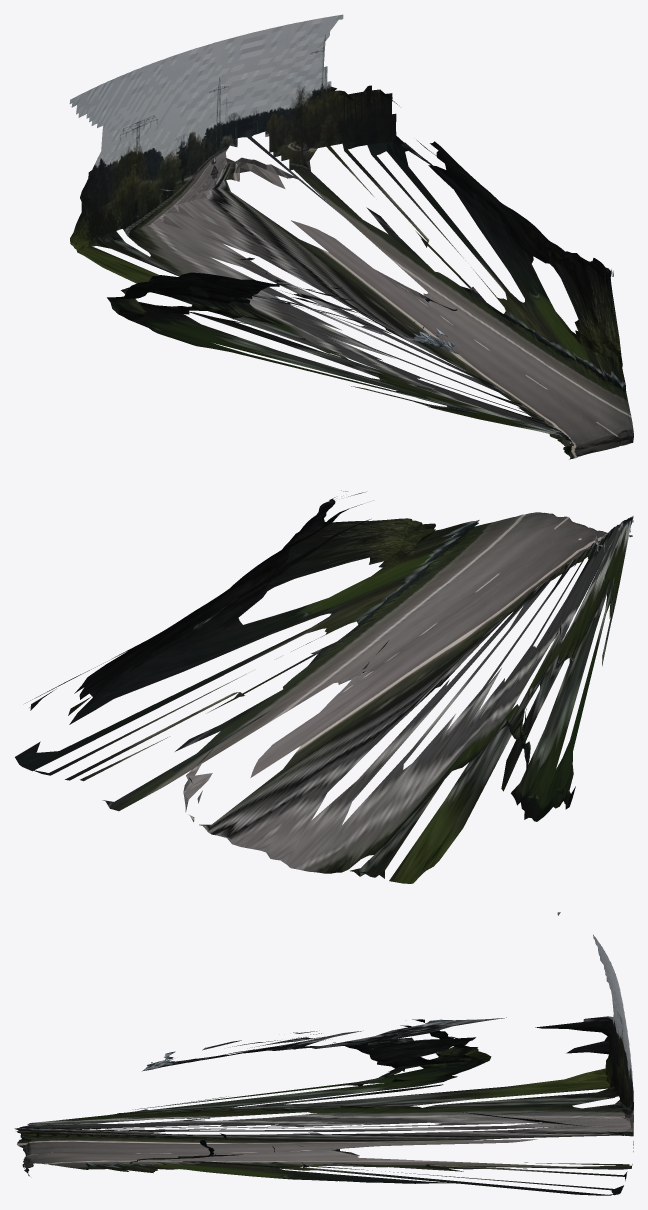
3 renders of one model, top to bottom at view 1: azimuth 30°, elevation 25°; view 2: azimuth 150°, elevation 25°; view 3: azimuth 270°, elevation 25°, orthographic. The views are drawn at different scales.
Parts seen in each view (by area): view 1: defaultobject; view 2: defaultobject; view 3: defaultobject.
Boxes of the visible parts, x1,y1,x2,y2 form: defaultobject: [69, 14, 633, 459]; defaultobject: [15, 490, 633, 883]; defaultobject: [14, 912, 633, 1195].
Size of the model in its own units: 30.25 by 11.96 by 44.85.
Materials: 1 (1 with a texture image).
